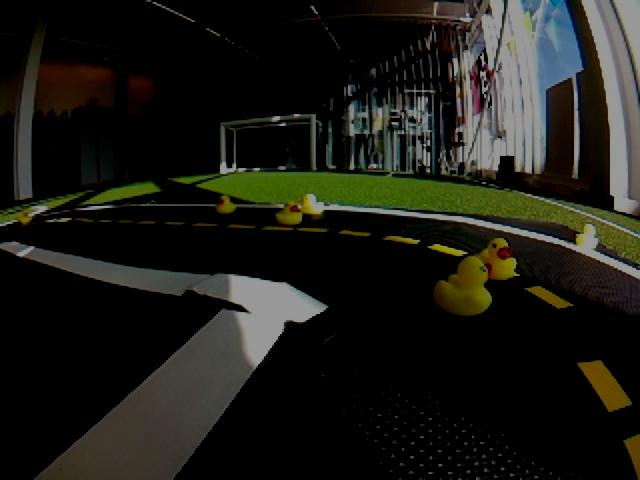Duckies: (431, 256, 492, 316), (474, 238, 516, 280), (275, 200, 302, 225), (299, 194, 322, 214), (215, 196, 235, 215), (19, 210, 34, 226)
